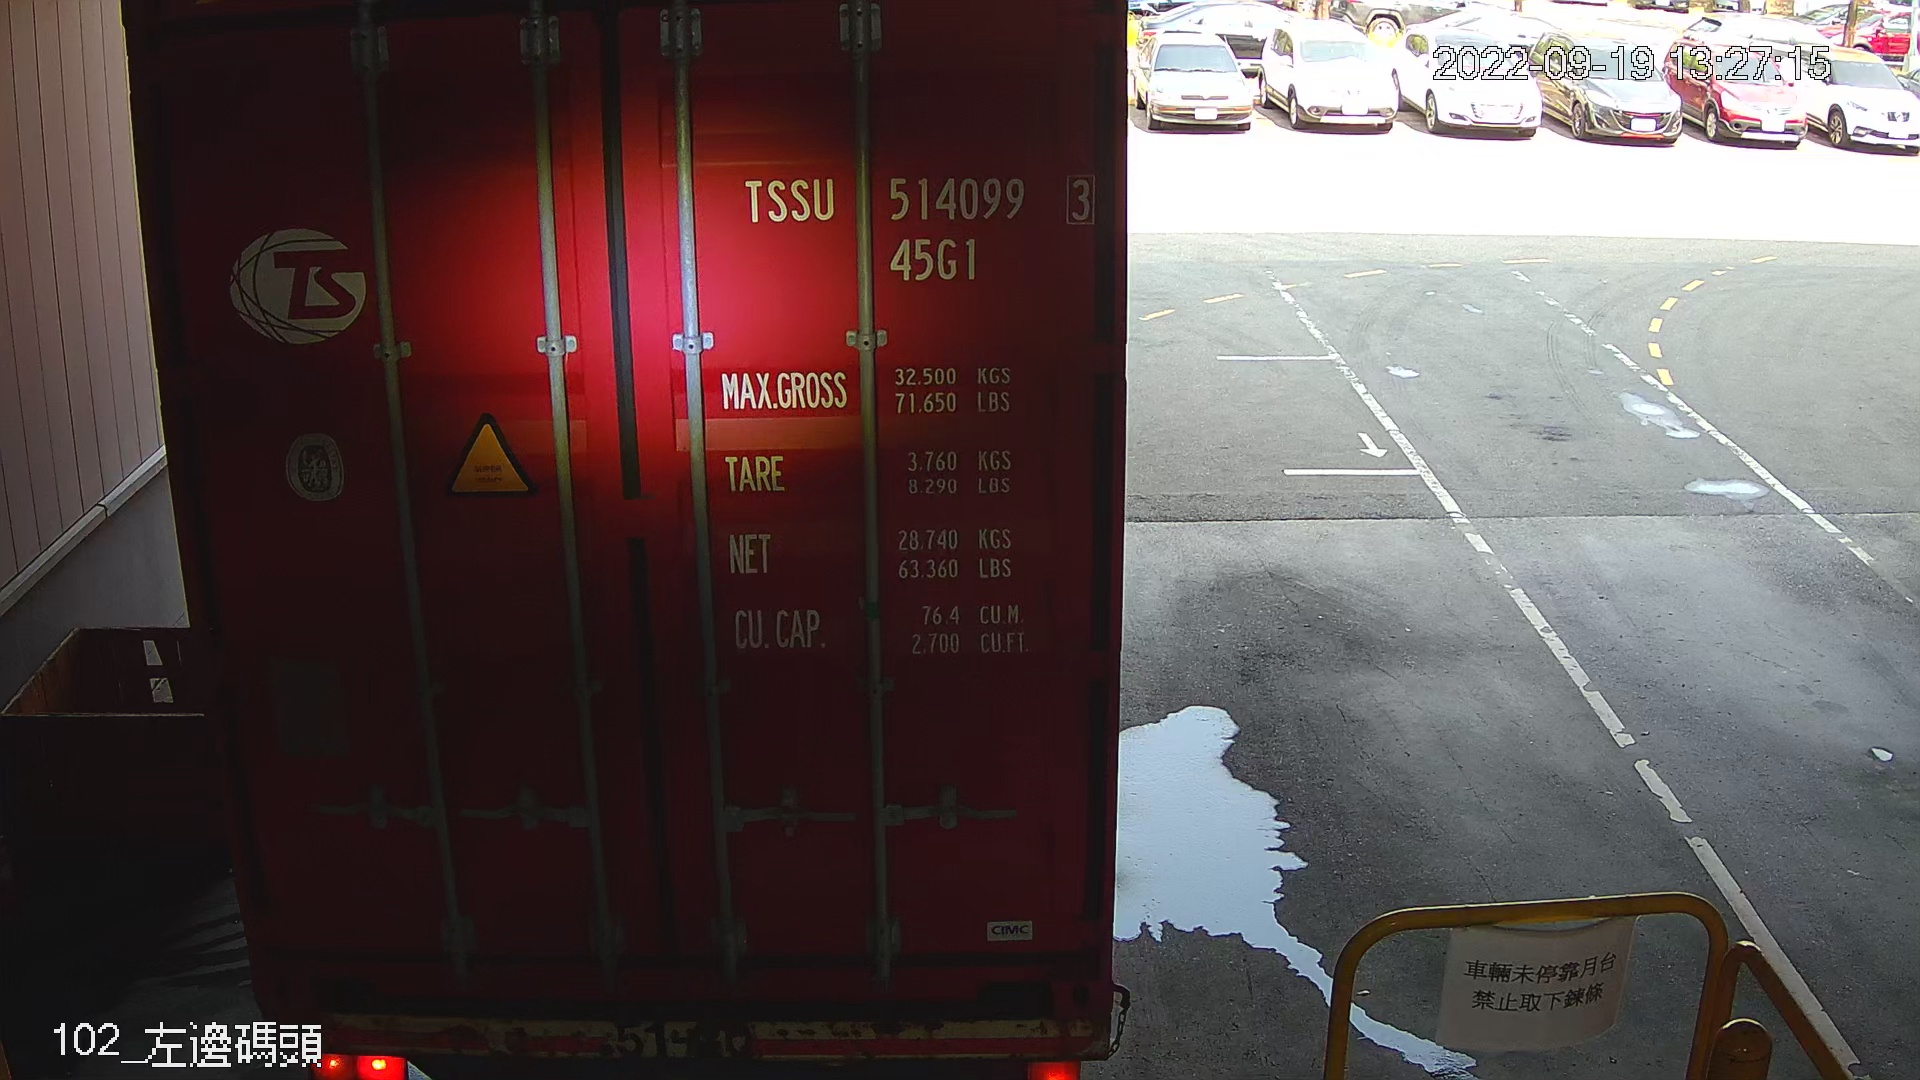container: (727, 161, 1106, 295)
